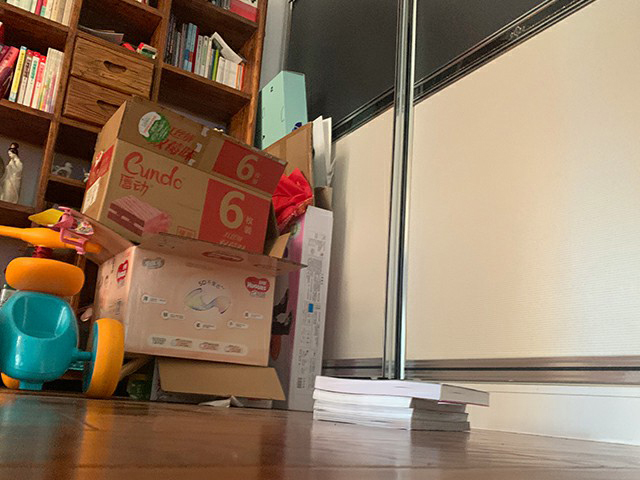book: (311, 375, 489, 432)
cabinet: (290, 1, 640, 443)
